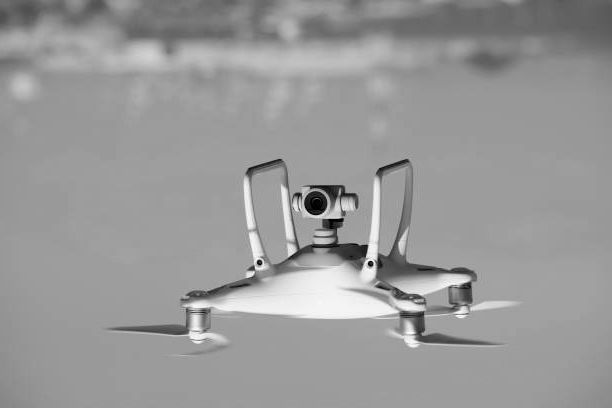Drone: (96, 153, 523, 361)
